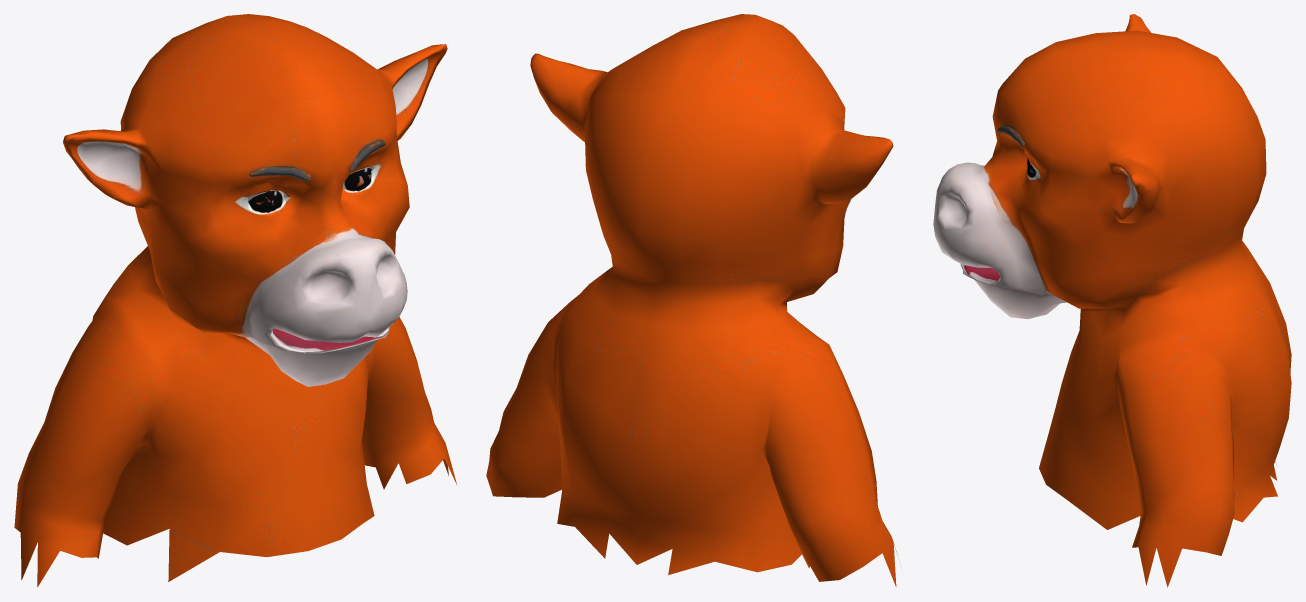
File: niulai.glb
3 views of the same model, side by side, from view 1: azimuth 30°, elevation 25°; view 2: azimuth 150°, elevation 25°; view 3: azimuth 270°, elevation 25° (orthographic). The views are drawn at different scales.
Parts seen in each view (by area): view 1: Head; view 2: Head; view 3: Head.
Boxes of the visible parts, x1,y1,x2,y2 form: Head: [14, 14, 457, 587]; Head: [486, 14, 897, 586]; Head: [933, 14, 1291, 587].
Bounding box in the file's own units: 0.4746 × 0.5459 × 0.3896.
1 material, 1 textured.
